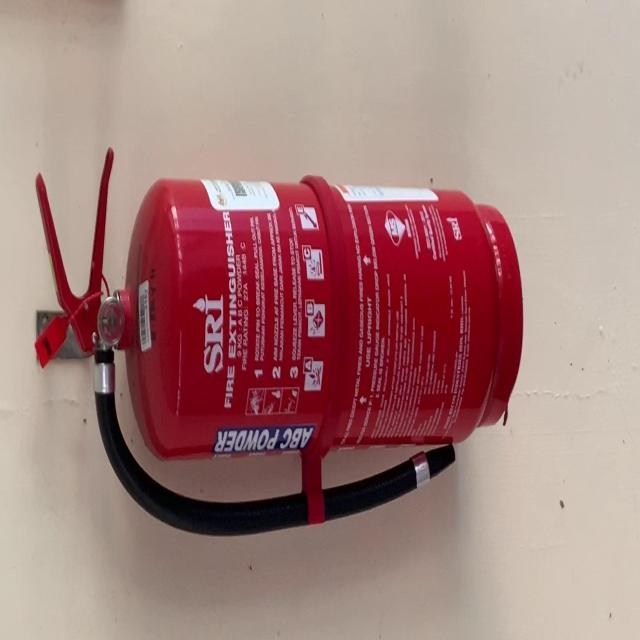fire_extinguisher: (33, 136, 528, 543)
